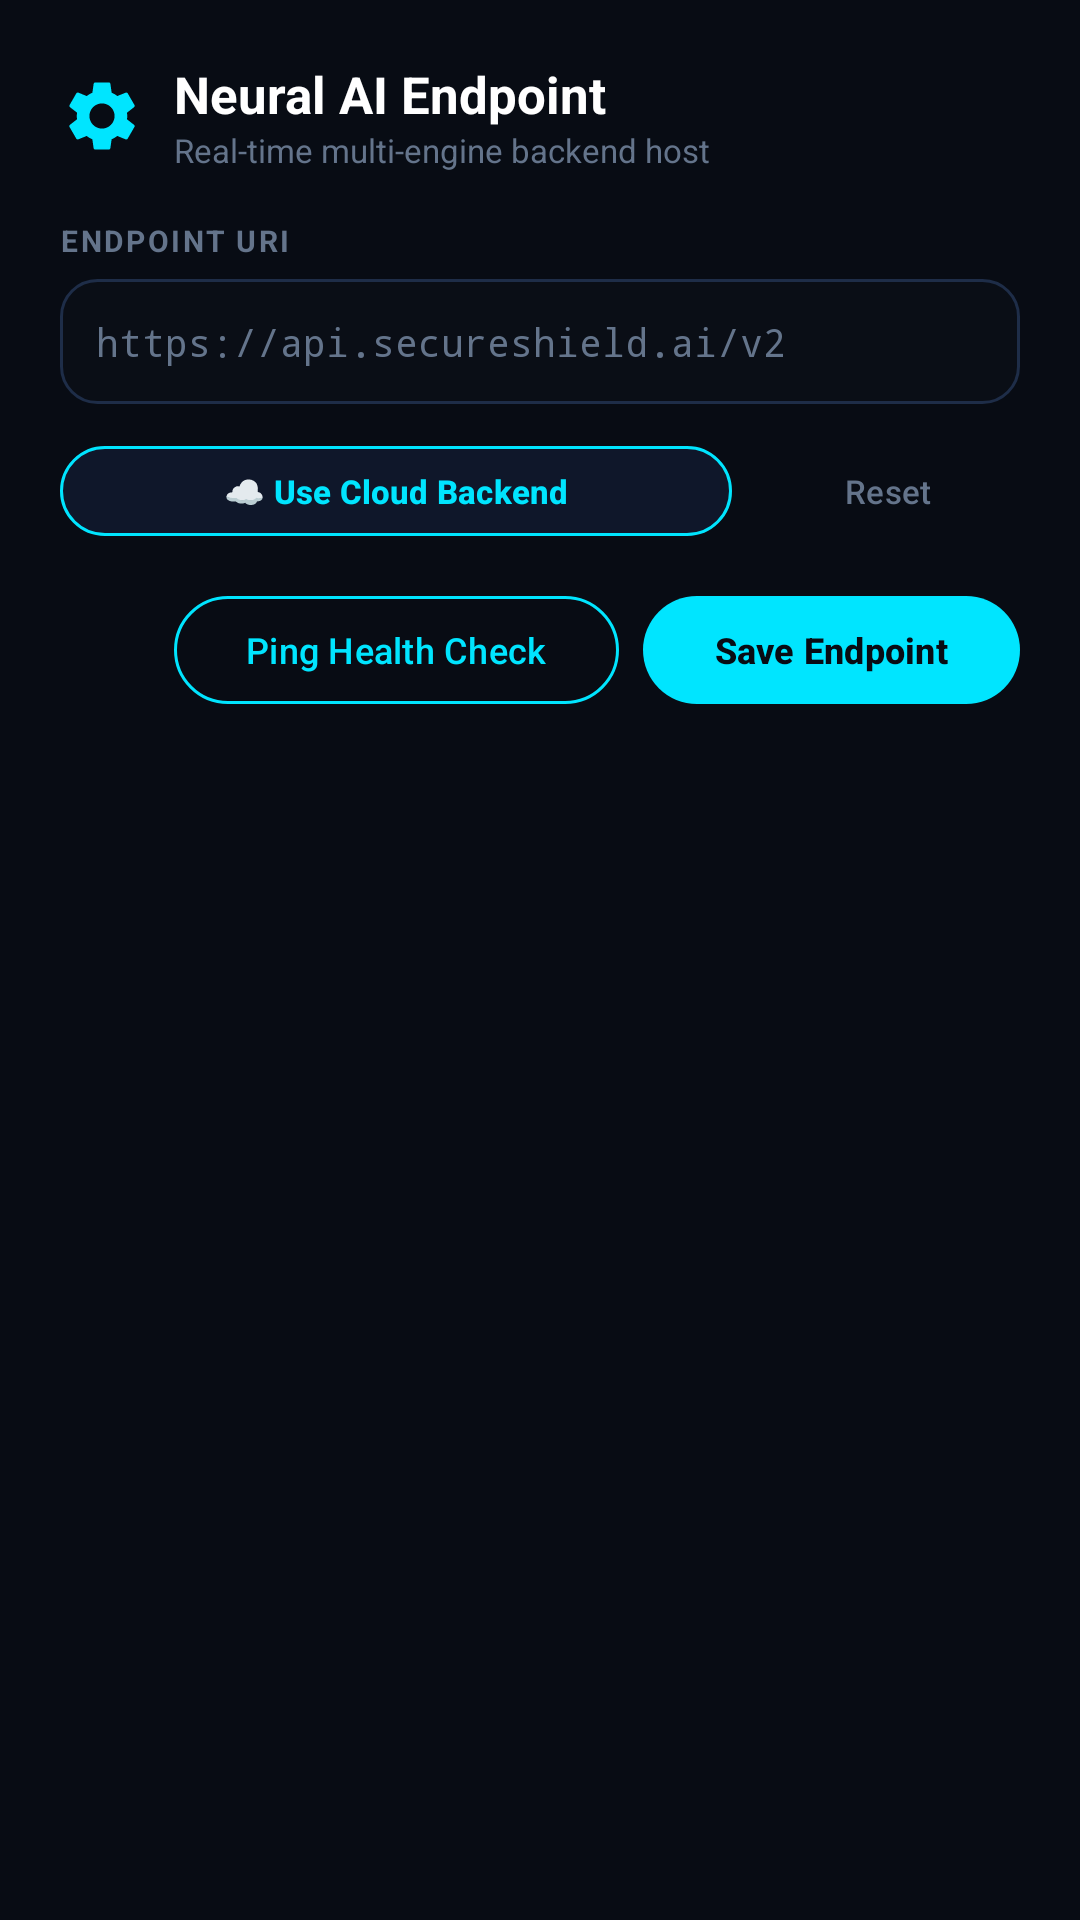

Point at icon controls on the screen. Image size 1080×1920, points as (x,y).
settings: (102,116)
